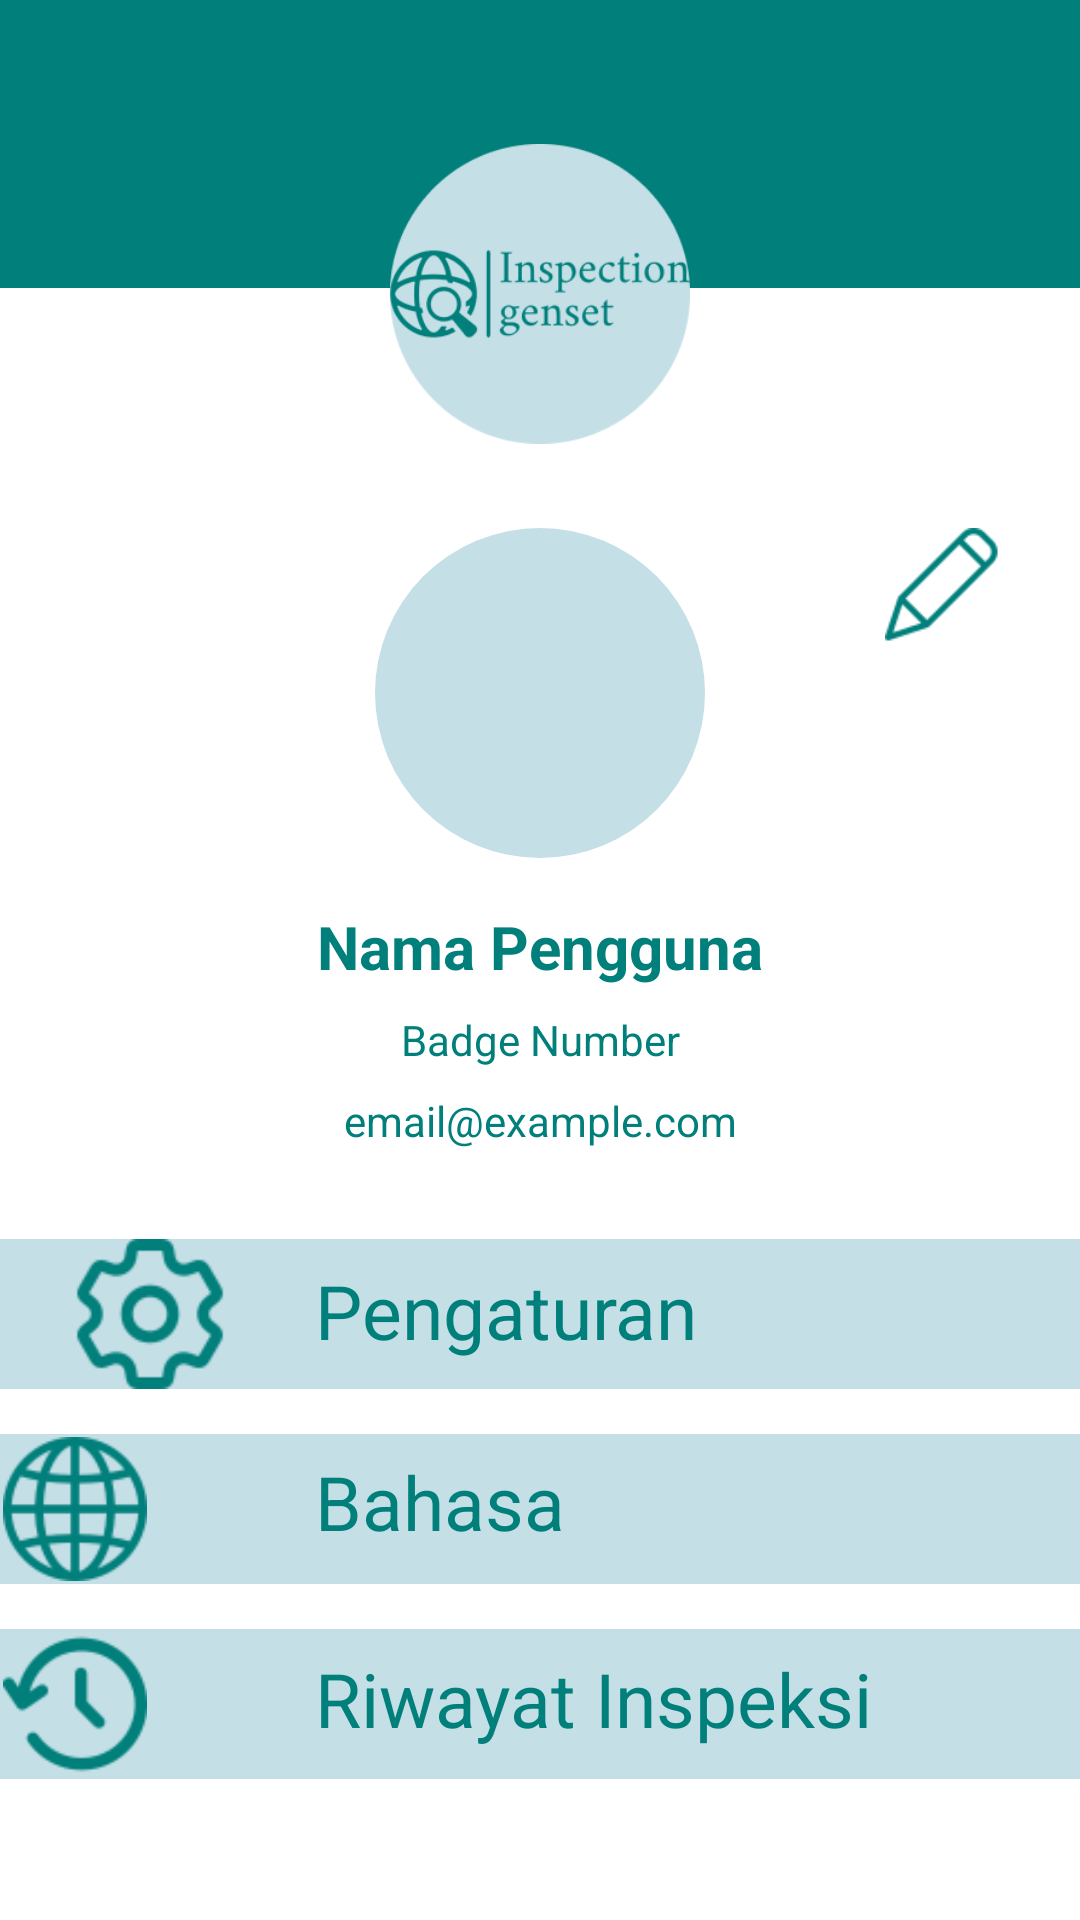

Icons on this 1080px x 1920px Android screen, each with the point to tap as (x,y):
edit: (941,584)
